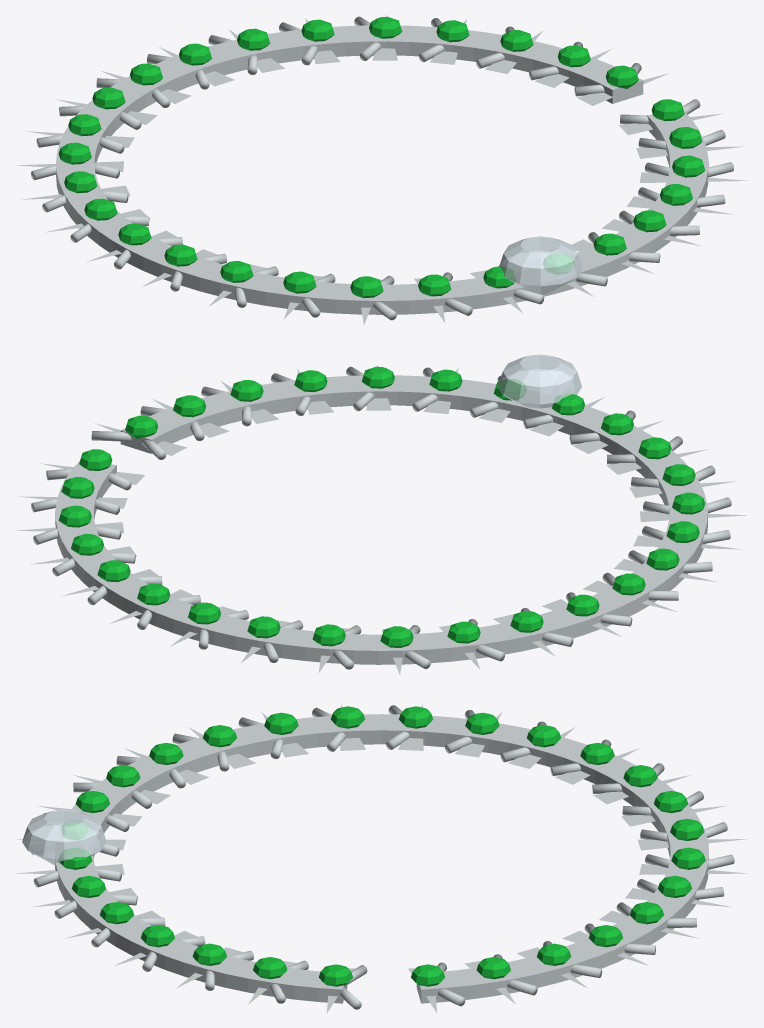
3 renders of one model, top to bottom at view 1: azimuth 30°, elevation 25°; view 2: azimuth 150°, elevation 25°; view 3: azimuth 270°, elevation 25°, orthographic.
Visible parts, largest first — view 1: TI022 / open metachrome framework, TI022 / pectoral central diamond, TI022 / pectoral emerald, TI022 / pectoral emerald.009, TI022 / pectoral emerald.017, TI022 / pectoral emerald.019, TI022 / pectoral emerald.013, TI022 / pectoral emerald.014, TI022 / pectoral emerald.015, TI022 / pectoral emerald.025, TI022 / pectoral emerald.003, TI022 / pectoral emerald.005 (+18 smaller); view 2: TI022 / open metachrome framework, TI022 / pectoral central diamond, TI022 / pectoral emerald.027, TI022 / pectoral emerald.002, TI022 / pectoral emerald.007, TI022 / pectoral emerald.010, TI022 / pectoral emerald.014, TI022 / pectoral emerald.012, TI022 / pectoral emerald.005, TI022 / pectoral emerald.013, TI022 / pectoral emerald.018, TI022 / pectoral emerald.023 (+18 smaller); view 3: TI022 / open metachrome framework, TI022 / pectoral central diamond, TI022 / pectoral emerald.013, TI022 / pectoral emerald.014, TI022 / pectoral emerald, TI022 / pectoral emerald.027, TI022 / pectoral emerald.010, TI022 / pectoral emerald.012, TI022 / pectoral emerald.015, TI022 / pectoral emerald.017, TI022 / pectoral emerald.007, TI022 / pectoral emerald.002 (+17 smaller).
Boxes of the visible parts, bbox=[...] form: TI022 / open metachrome framework: bbox=[56, 25, 708, 314]; TI022 / pectoral central diamond: bbox=[499, 236, 582, 294]; TI022 / pectoral emerald: bbox=[605, 65, 638, 88]; TI022 / pectoral emerald.009: bbox=[92, 87, 125, 109]; TI022 / pectoral emerald.017: bbox=[283, 271, 316, 293]; TI022 / pectoral emerald.019: bbox=[418, 274, 451, 296]; TI022 / pectoral emerald.013: bbox=[84, 198, 117, 220]; TI022 / pectoral emerald.014: bbox=[118, 223, 151, 245]; TI022 / pectoral emerald.015: bbox=[164, 244, 197, 266]; TI022 / pectoral emerald.025: bbox=[672, 155, 705, 177]; TI022 / pectoral emerald.003: bbox=[436, 20, 469, 42]; TI022 / pectoral emerald.005: bbox=[301, 19, 334, 41]; TI022 / open metachrome framework: bbox=[55, 375, 707, 664]; TI022 / pectoral central diamond: bbox=[498, 354, 581, 408]; TI022 / pectoral emerald.027: bbox=[125, 415, 158, 438]; TI022 / pectoral emerald.002: bbox=[58, 505, 91, 527]; TI022 / pectoral emerald.007: bbox=[247, 616, 280, 638]; TI022 / pectoral emerald.010: bbox=[447, 621, 480, 643]; TI022 / pectoral emerald.014: bbox=[646, 548, 679, 570]; TI022 / pectoral emerald.012: bbox=[566, 594, 599, 616]; TI022 / pectoral emerald.005: bbox=[137, 583, 170, 605]; TI022 / pectoral emerald.013: bbox=[612, 573, 645, 595]; TI022 / pectoral emerald.018: bbox=[638, 437, 671, 459]; TI022 / pectoral emerald.023: bbox=[361, 366, 394, 388]; TI022 / open metachrome framework: bbox=[55, 714, 708, 1003]; TI022 / pectoral central diamond: bbox=[22, 809, 106, 865]; TI022 / pectoral emerald.013: bbox=[399, 706, 433, 728]; TI022 / pectoral emerald.014: bbox=[330, 706, 364, 728]; TI022 / pectoral emerald: bbox=[411, 964, 445, 986]; TI022 / pectoral emerald.027: bbox=[318, 964, 352, 986]; TI022 / pectoral emerald.010: bbox=[580, 742, 614, 764]; TI022 / pectoral emerald.012: bbox=[465, 712, 499, 734]; TI022 / pectoral emerald.015: bbox=[264, 712, 298, 734]; TI022 / pectoral emerald.017: bbox=[149, 742, 183, 764]; TI022 / pectoral emerald.007: bbox=[670, 818, 704, 840]; TI022 / pectoral emerald.002: bbox=[537, 943, 571, 965].
Bounding box in the file's own units: 3.81 × 0.2794 × 3.82.
